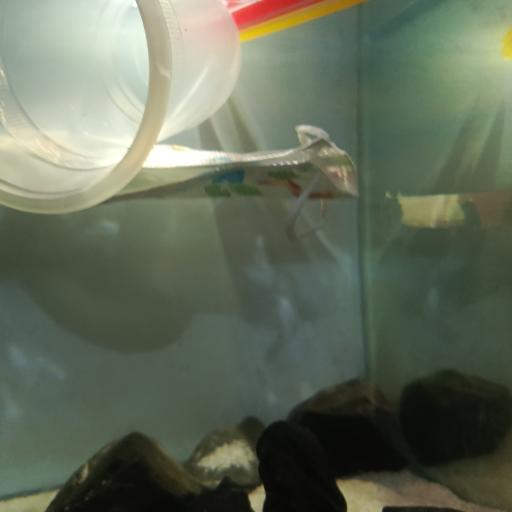mask: (0, 131, 362, 238)
plastic_cup: (0, 0, 242, 217)
plastic_straw: (237, 0, 361, 40), (232, 0, 329, 24)
